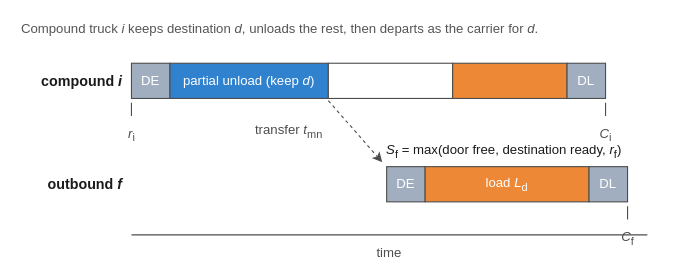
This 679x279 diagram has some shape labels left out. The shapes that lost their labels are listed below. From the top down, each one's centre as x and y in pixels, then its label:
(390,80): wait for transfers
(509,80): load
